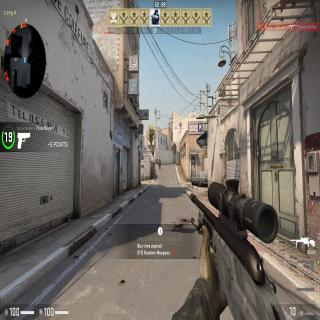T-Body: (158, 159, 161, 168), (152, 148, 154, 156)
T-Head: (152, 148, 154, 150), (159, 159, 160, 161)
